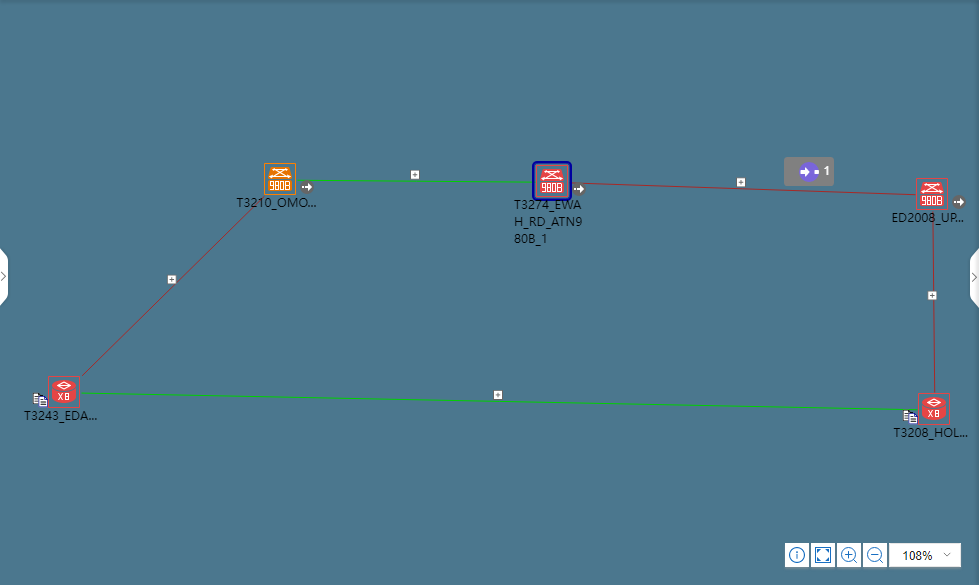ATN_Orange: (266, 167, 295, 196)
ATN_Red: (915, 179, 950, 207), (535, 167, 564, 195)
Link_Green: (275, 393, 895, 416), (89, 387, 797, 407), (309, 393, 919, 416), (520, 179, 528, 190)
Link_Red: (83, 198, 260, 372), (572, 179, 910, 195)
Router_Red: (46, 375, 81, 410), (921, 393, 950, 423)
